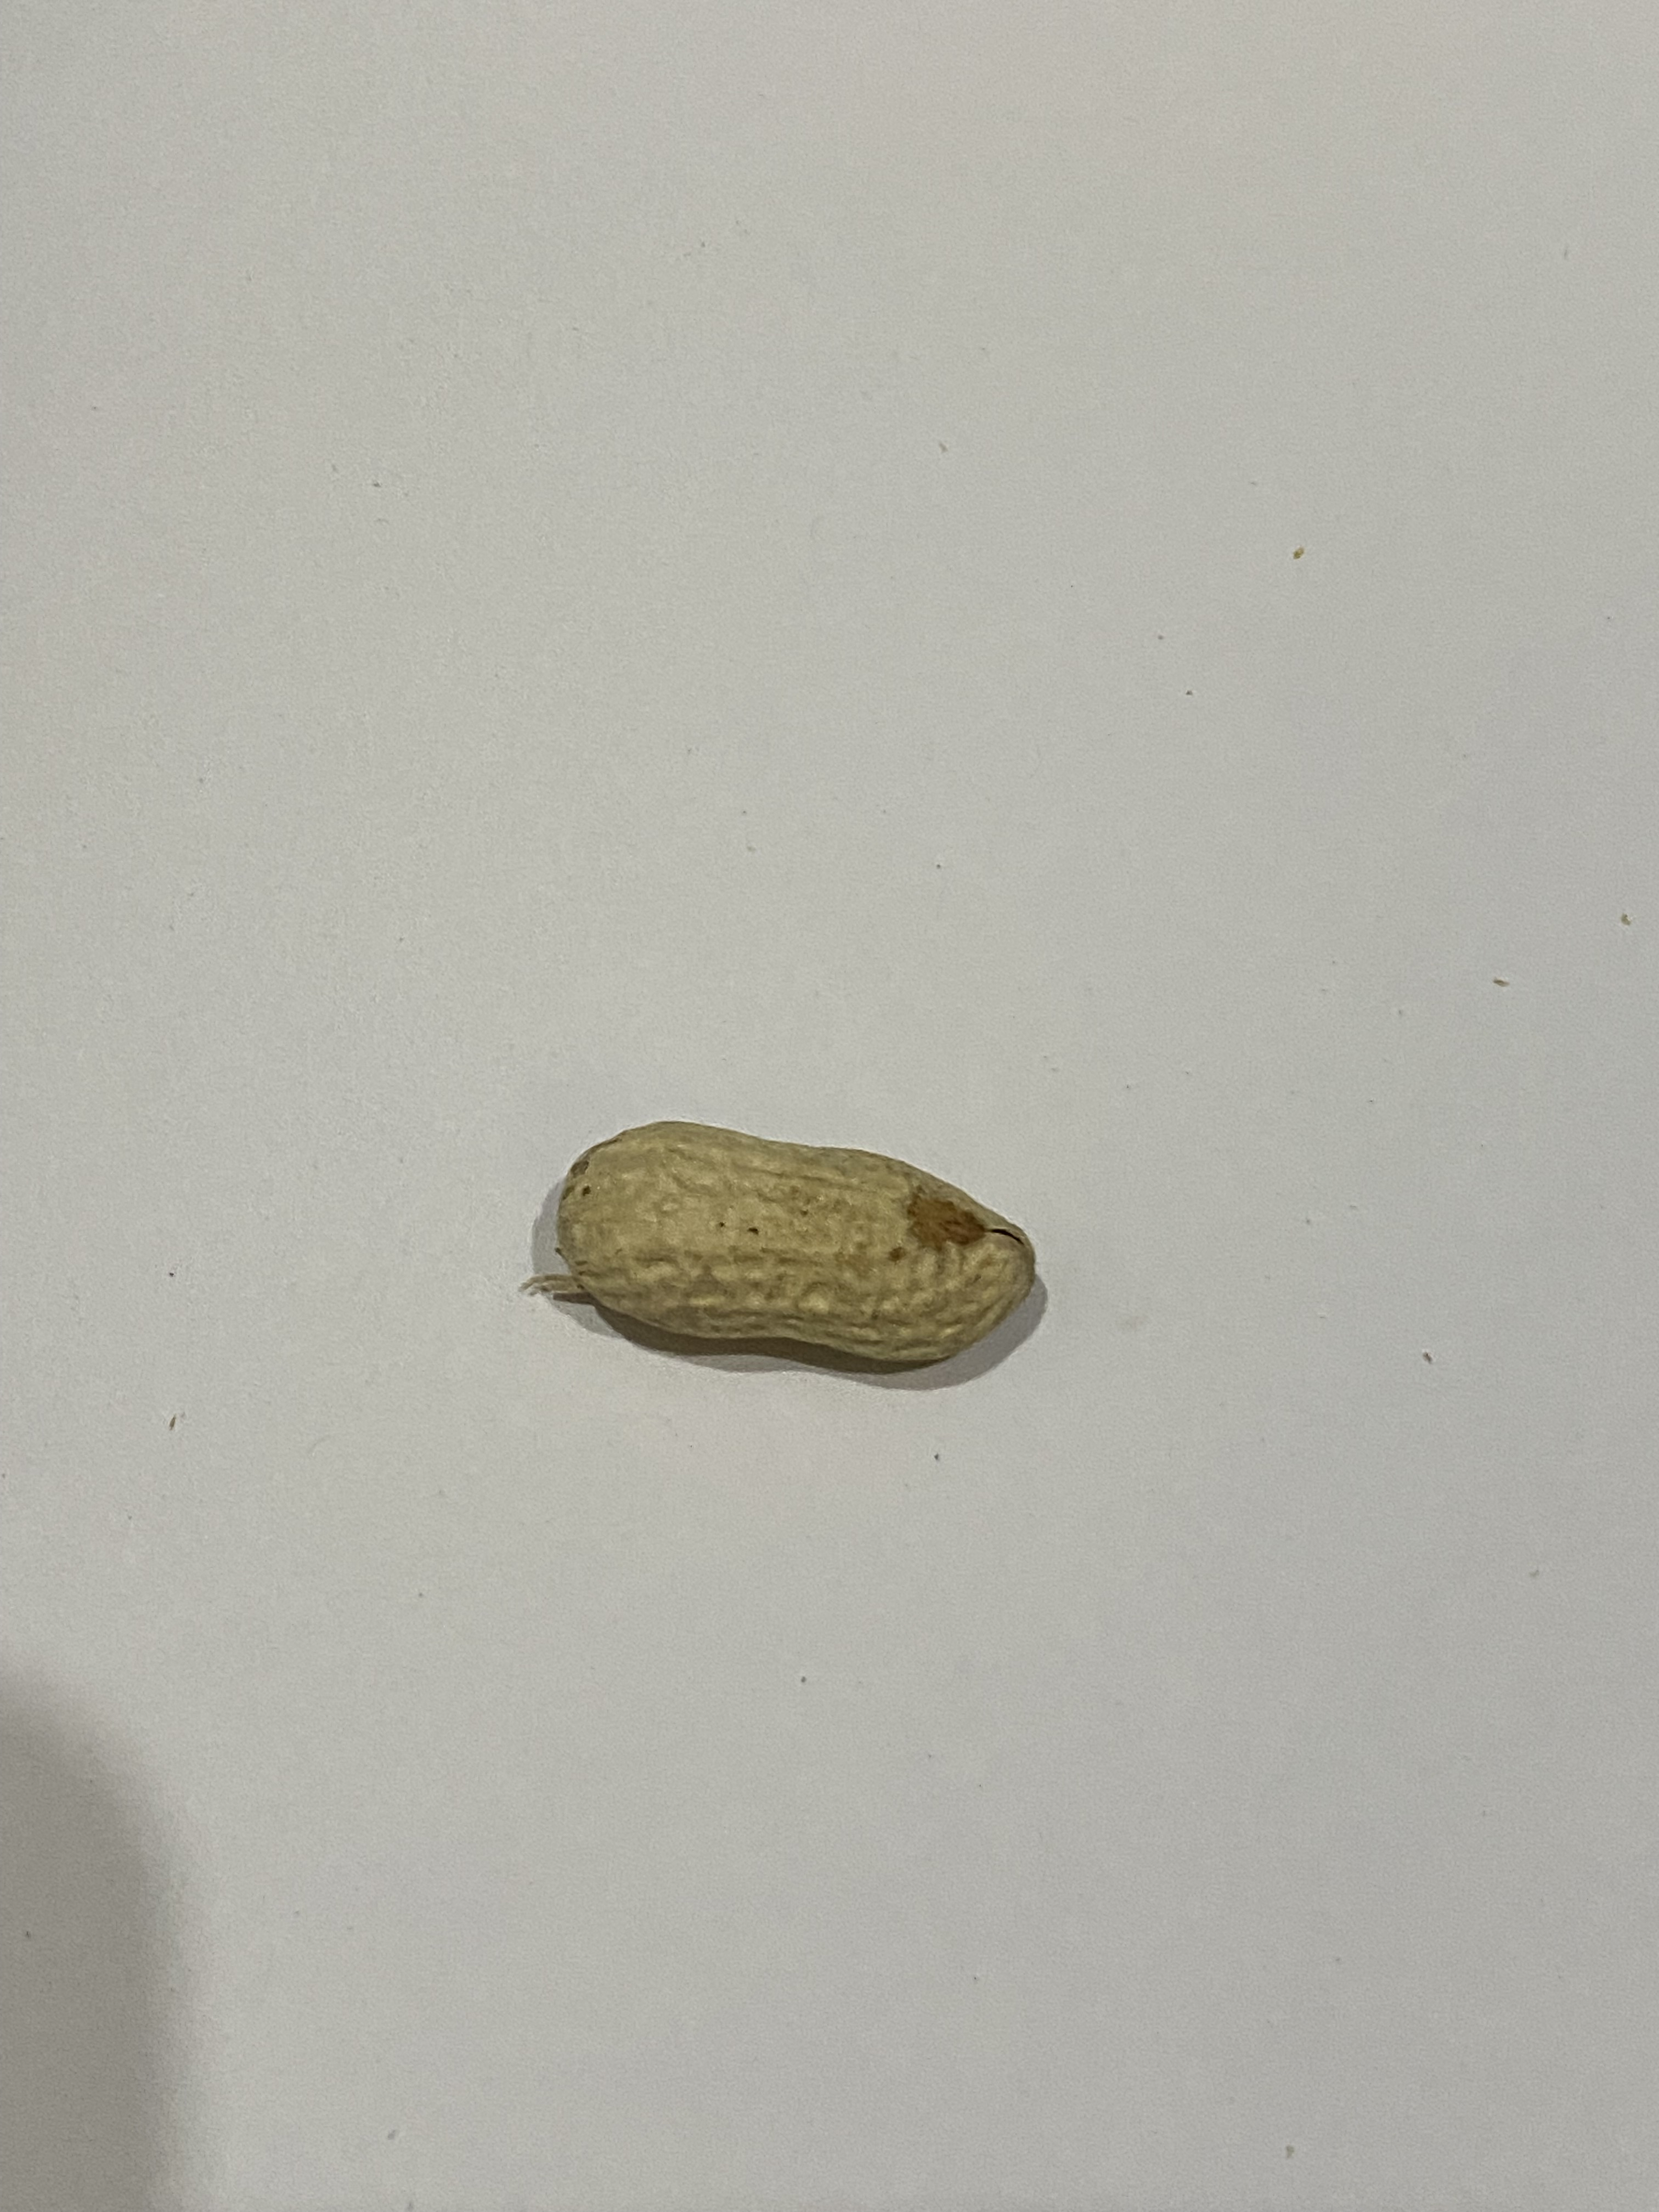kacang2: (512, 1113, 1084, 1386)
